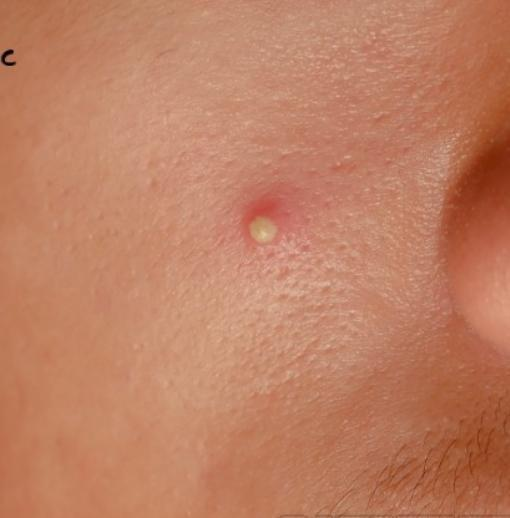purulent: (226, 188, 300, 271)
